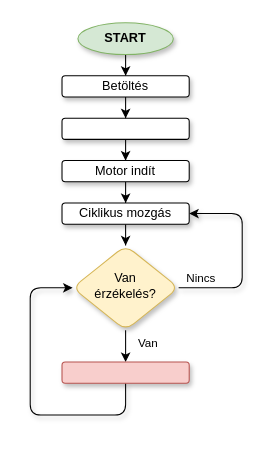
This 276x449 diagram has some shape labels left out. The centre of each missing label's shape, as x and y in pixels:
"Alaphelyzetbe áll" goes at [126,130].
"Risztás" goes at [126,374].
